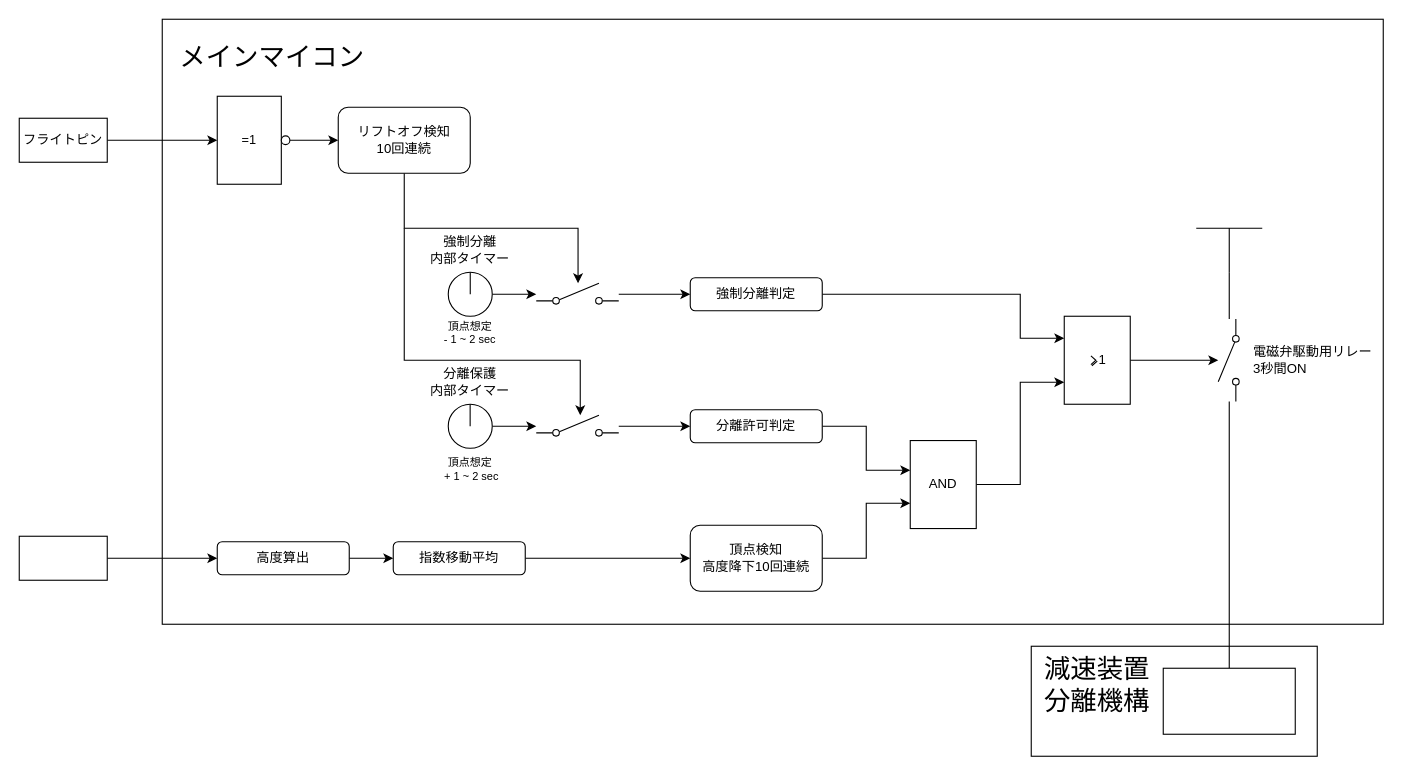
Some shapes in this 1403 by 776 pixel diagram are drawn without their labels. The centre of each missing label's shape, as x and y in pixels:
12V: point (1228, 249)
気圧センサ: point (62, 557)
減速装置分離機構 電磁弁: point (1228, 700)
